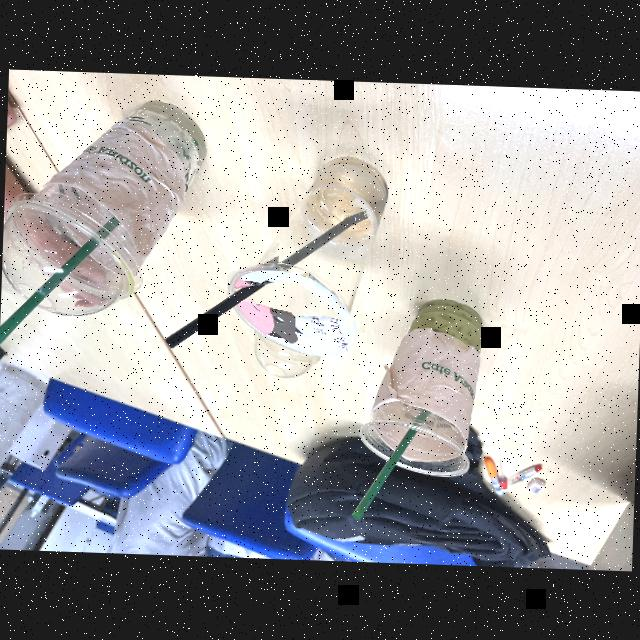plastic_cup: (0, 95, 233, 329), (225, 146, 396, 352), (348, 289, 495, 490)
plastic_cup_lid: (0, 192, 140, 340), (249, 336, 322, 386)
straw: (156, 205, 368, 357), (0, 216, 113, 355), (339, 426, 424, 526)
